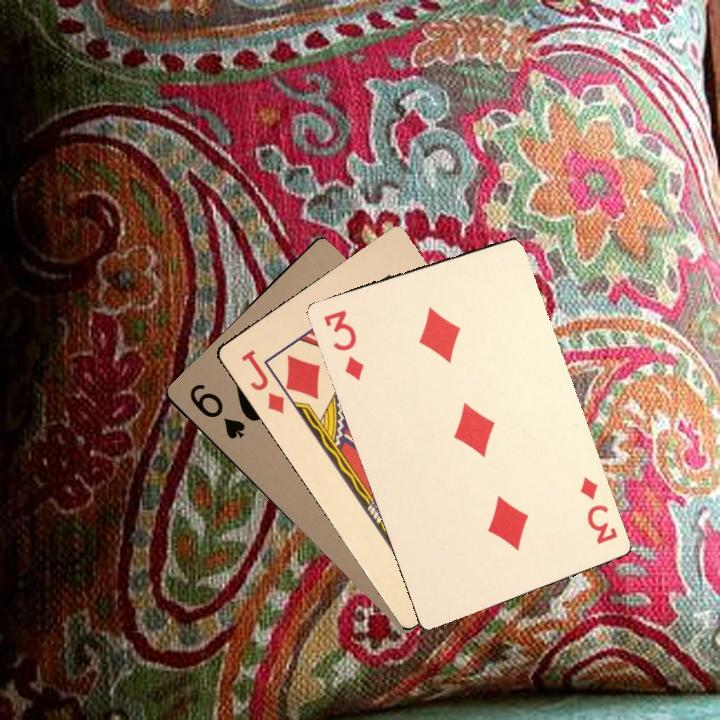3d: (319, 305, 367, 384), (576, 473, 620, 547)
6s: (185, 379, 248, 442)
Jd: (237, 345, 287, 416)
